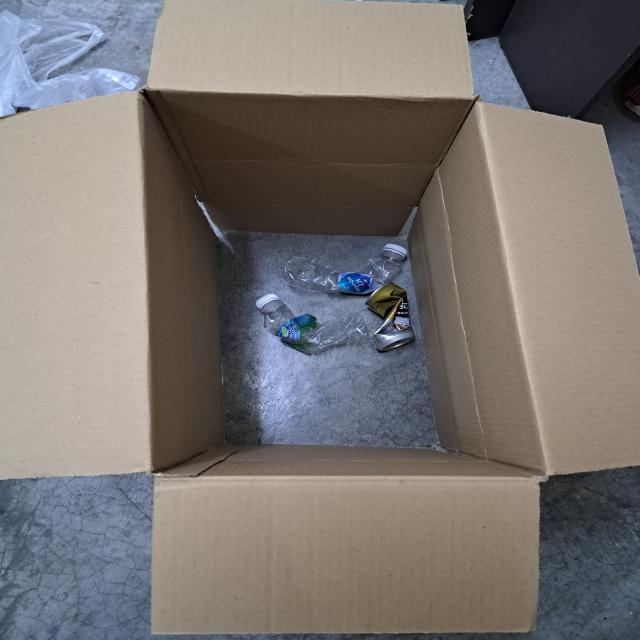can: (368, 282, 414, 351)
cardboard: (0, 0, 640, 640)
plastic bottle: (261, 307, 369, 358), (285, 253, 395, 296)
plastic bottle cap: (253, 291, 278, 307), (386, 240, 407, 258)
